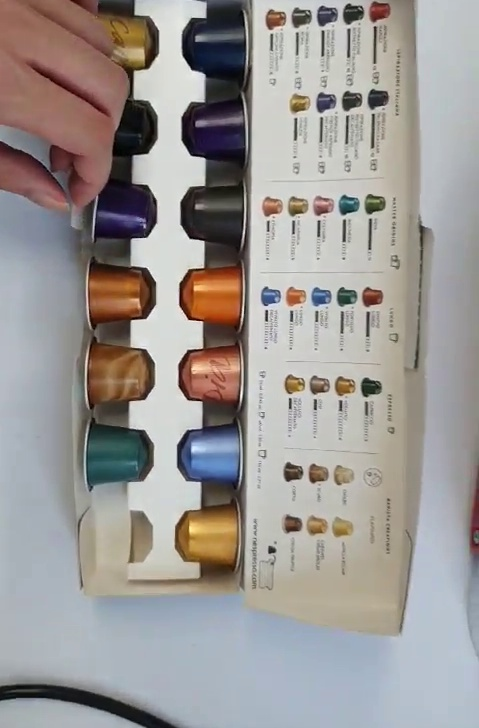capsule_6: (176, 337, 247, 413)
